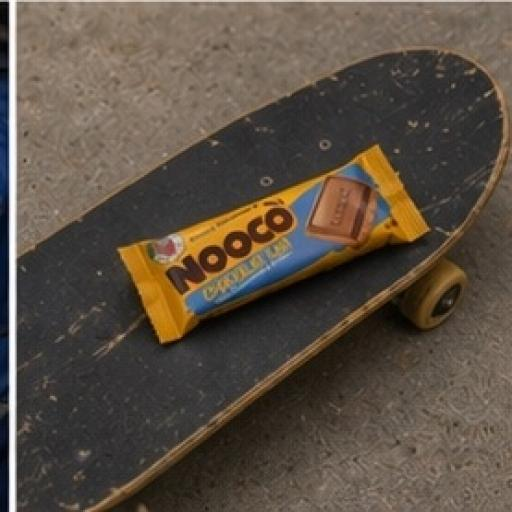nooco: (98, 142, 468, 349)
